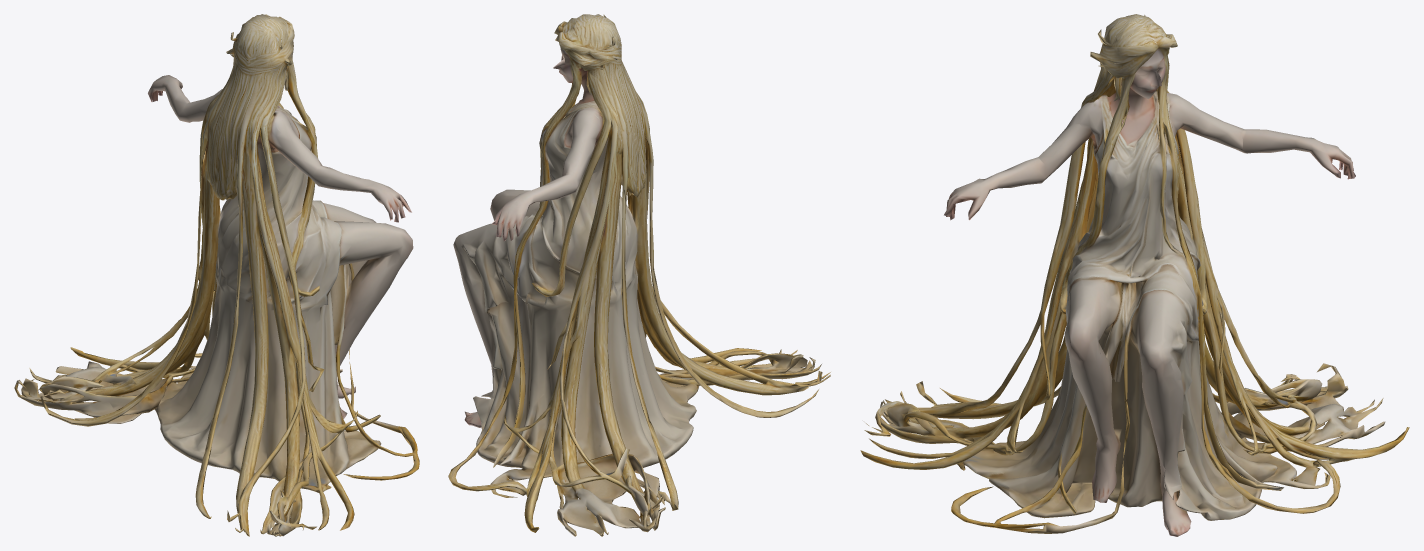
The model's file is model.vigil.glb.
3 views of the same model, side by side, from view 1: azimuth 30°, elevation 25°; view 2: azimuth 150°, elevation 25°; view 3: azimuth 270°, elevation 25° (orthographic). The views are drawn at different scales.
Visible parts, largest first — view 1: tripo_node_08bfabfa-d5d3-4c1f-a42b-711ba864361a; view 2: tripo_node_08bfabfa-d5d3-4c1f-a42b-711ba864361a; view 3: tripo_node_08bfabfa-d5d3-4c1f-a42b-711ba864361a.
Boxes of the visible parts, bbox=[...] form: tripo_node_08bfabfa-d5d3-4c1f-a42b-711ba864361a: bbox=[14, 14, 419, 536]; tripo_node_08bfabfa-d5d3-4c1f-a42b-711ba864361a: bbox=[448, 14, 830, 536]; tripo_node_08bfabfa-d5d3-4c1f-a42b-711ba864361a: bbox=[860, 14, 1409, 536].
Bounding box in the file's own units: 1.25 × 1.75 × 1.88.
Materials: 1 (1 with a texture image).
